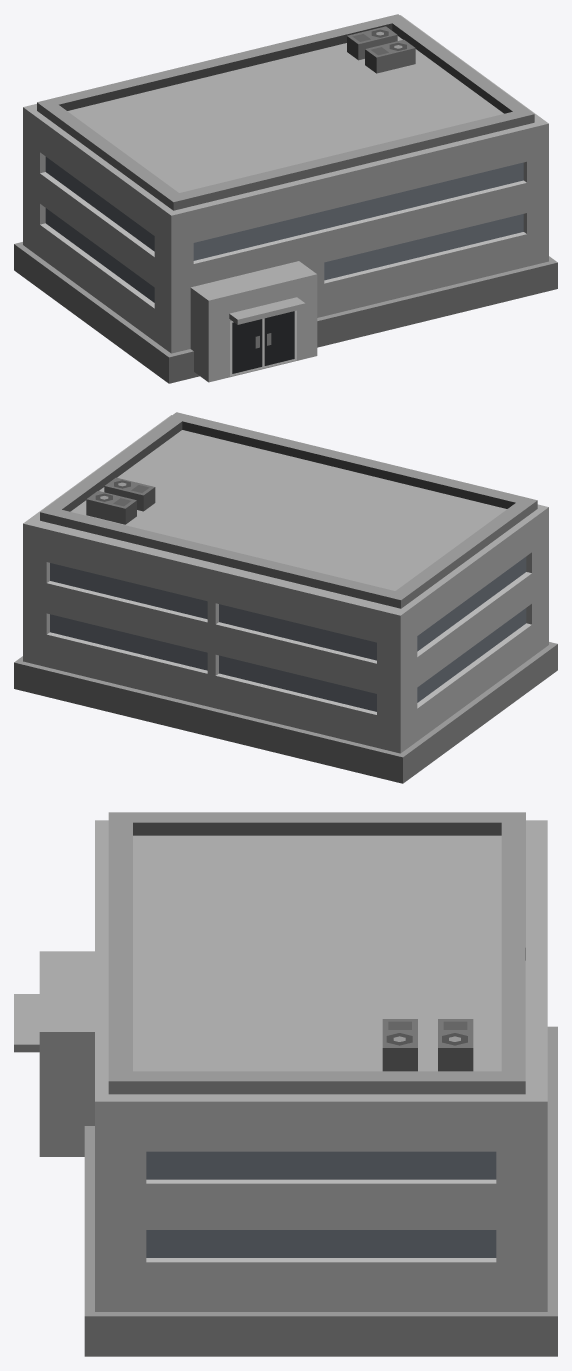
Rendered from SA_Bld_HospitalOffice_01.gltf.
The picture shows the model from 3 angles, top to bottom: view 1: azimuth 30°, elevation 25°; view 2: azimuth 150°, elevation 25°; view 3: azimuth 270°, elevation 25°; orthographic projection. The views are drawn at different scales.
Visible parts, largest first — view 1: SA_Bld_HospitalOffice_01; view 2: SA_Bld_HospitalOffice_01; view 3: SA_Bld_HospitalOffice_01.
Boxes of the visible parts, left/top/right/bottom form: SA_Bld_HospitalOffice_01: left=14, top=14, right=557, bottom=383; SA_Bld_HospitalOffice_01: left=14, top=412, right=557, bottom=783; SA_Bld_HospitalOffice_01: left=14, top=812, right=557, bottom=1356.
Bounding box in the file's own units: 27.13 × 12.02 × 21.53.
1 material, 1 textured.
